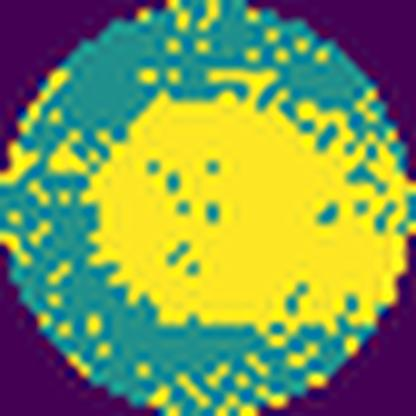Loc: (81, 69, 416, 327)
